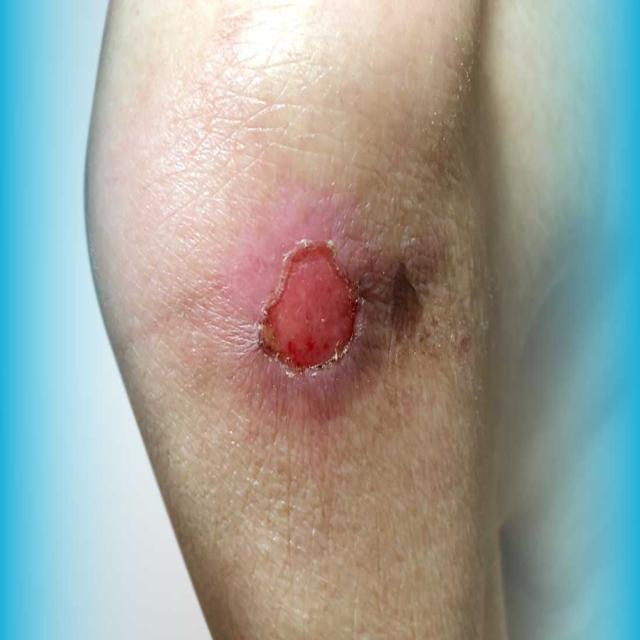stage-2: (257, 240, 362, 382)
